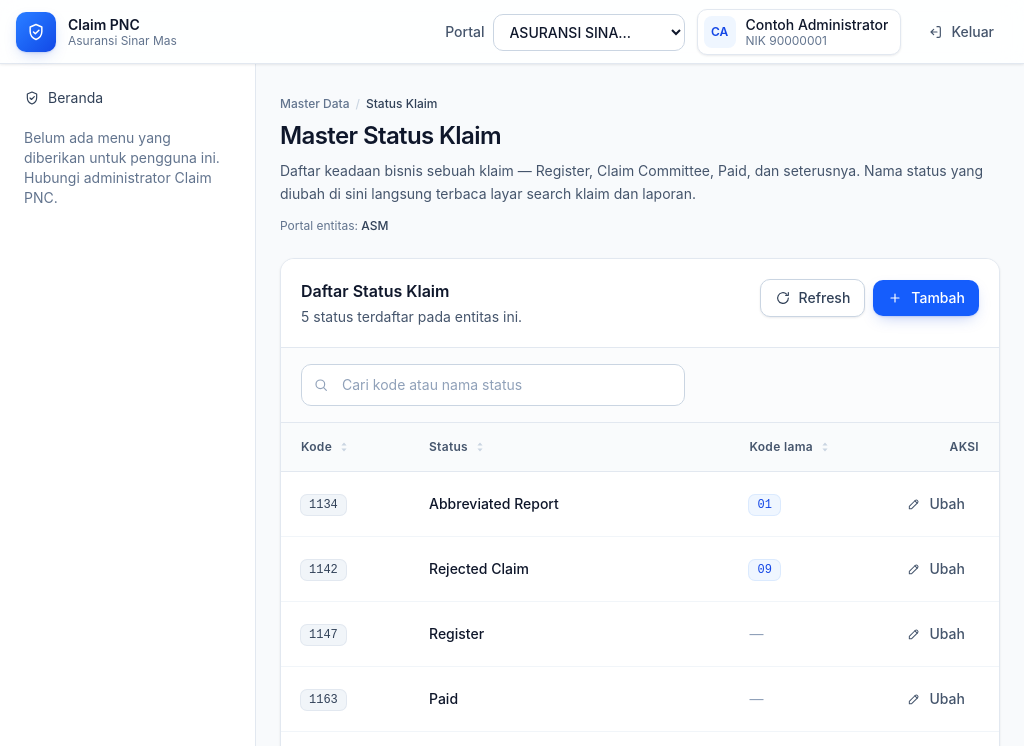
Test case: tambah › menampilkan penolakan nama ganda dari server
The image size is (1024, 746).
Expected: the text "Paid" is shown, [429,690,458,706]
Step 1. Click the button "Tambah" → (926, 298), box [873,280,979,316]
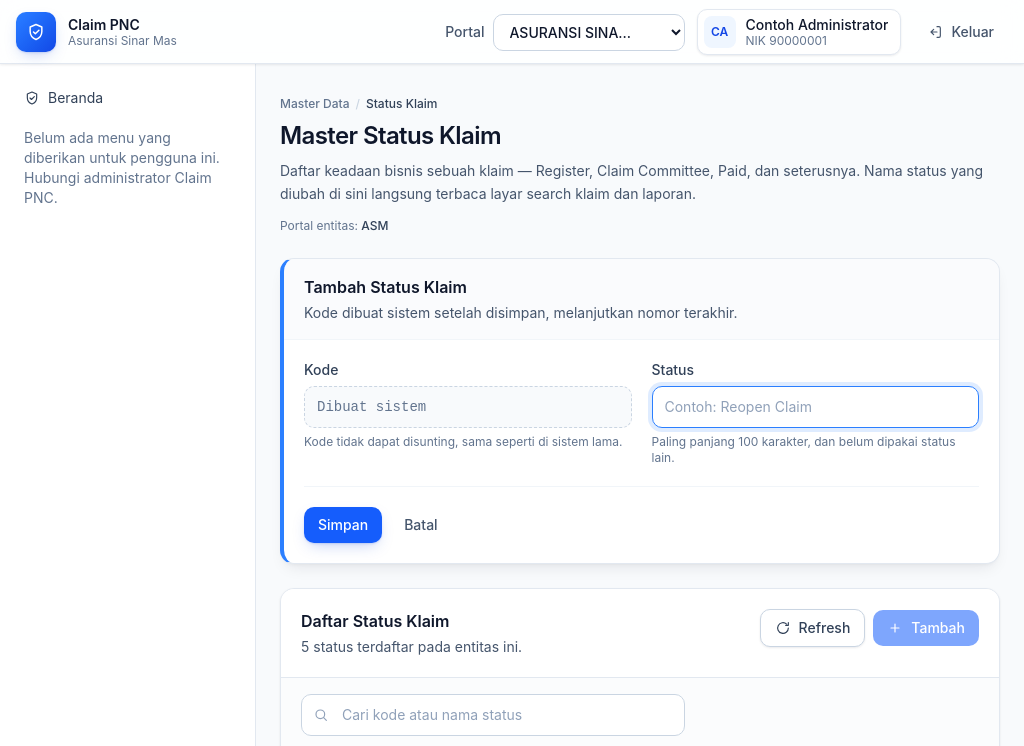
Step 2. Type "Paid" into the field labelled "Status" → (815, 406), box [652,386,979,428]
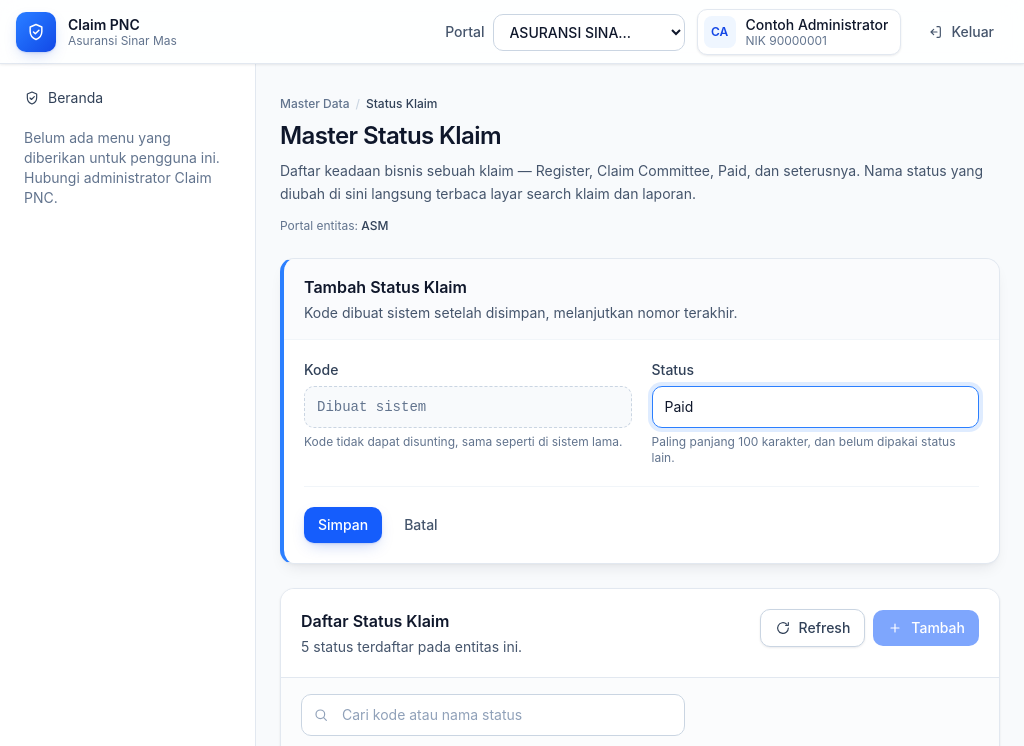
Step 3. Click the button "Simpan" → (343, 524), box [304,506,382,542]
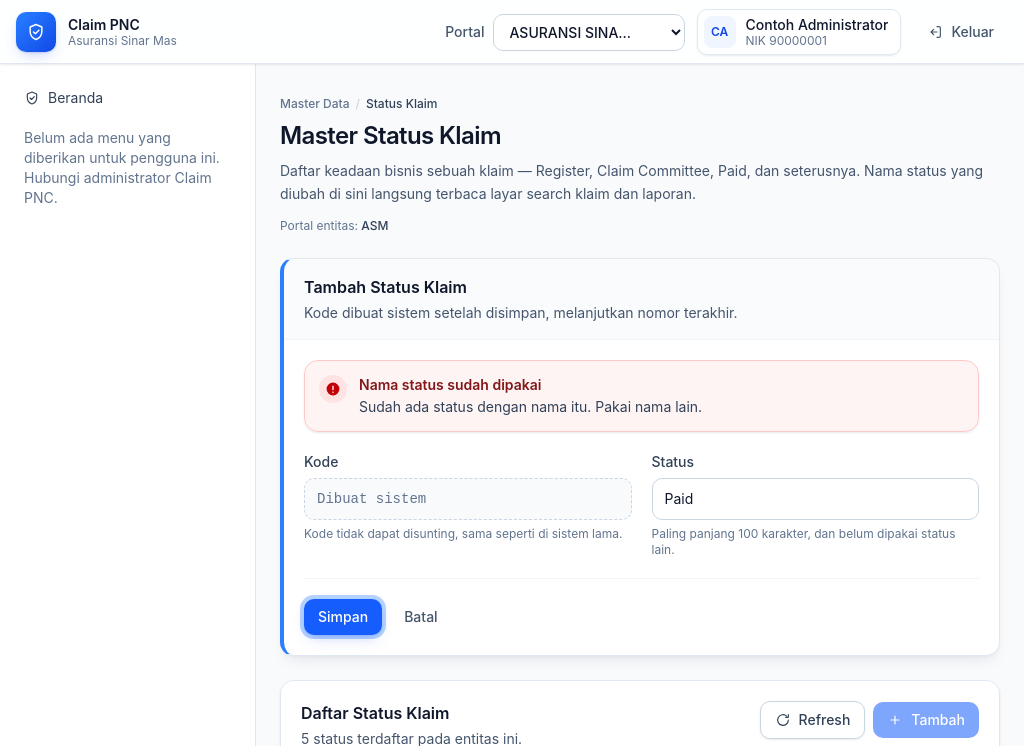
Expected: the message shows "Nama status sudah dipakai", [359,376,541,392]
